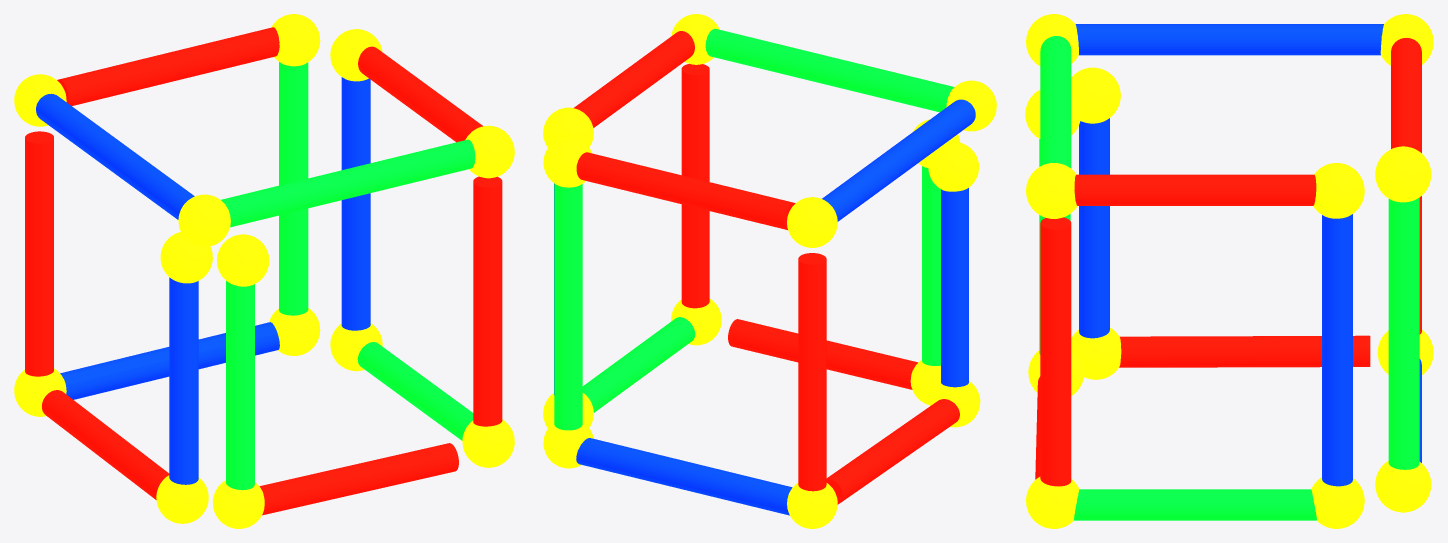
File: itemBox.fbx
3 views of the same model, side by side, from view 1: azimuth 30°, elevation 25°; view 2: azimuth 150°, elevation 25°; view 3: azimuth 270°, elevation 25° (orthographic). The views are drawn at different scales.
Visible parts, largest first — view 1: Cylinder.034, Cylinder.033, Sphere.027, Cylinder.027; view 2: Cylinder.034, Cylinder.033, Sphere.027, Cylinder.027; view 3: Cylinder.034, Cylinder.027, Sphere.027, Cylinder.033.
Boxes of the visible parts, bbox=[...] form: Cylinder.034: bbox=[25, 27, 502, 515]; Cylinder.033: bbox=[221, 62, 475, 490]; Sphere.027: bbox=[14, 14, 514, 528]; Cylinder.027: bbox=[36, 77, 370, 484]; Cylinder.034: bbox=[573, 31, 959, 504]; Cylinder.033: bbox=[554, 28, 954, 430]; Sphere.027: bbox=[543, 14, 996, 528]; Cylinder.027: bbox=[554, 99, 975, 515]; Cylinder.034: bbox=[1035, 38, 1421, 486]; Cylinder.027: bbox=[1075, 24, 1421, 486]; Sphere.027: bbox=[1025, 14, 1433, 528]; Cylinder.033: bbox=[1039, 36, 1419, 520].
Bounding box in the file's own units: 1537 × 1500 × 1531.
